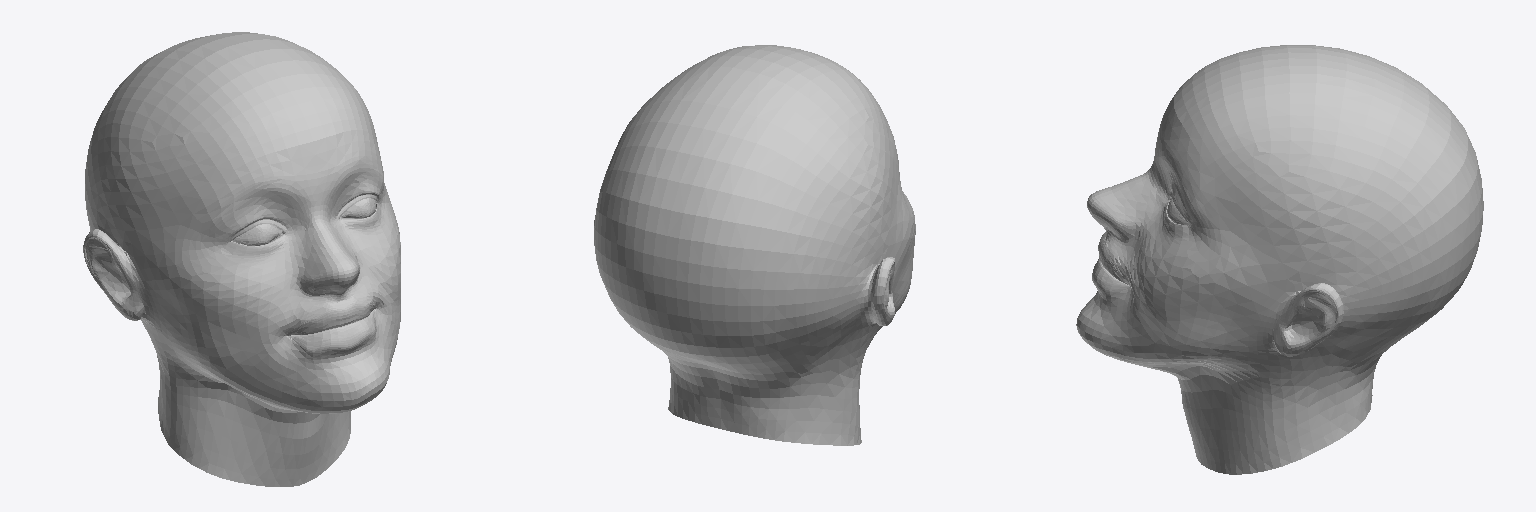
3 views of the same model, side by side, from view 1: azimuth 30°, elevation 25°; view 2: azimuth 150°, elevation 25°; view 3: azimuth 270°, elevation 25° (orthographic).
Visible parts, largest first — view 1: FaceGen; view 2: FaceGen; view 3: FaceGen.
Part boxes in pixels (left/top/right/bottom): FaceGen: left=83, top=32, right=400, bottom=486; FaceGen: left=594, top=45, right=915, bottom=445; FaceGen: left=1076, top=45, right=1483, bottom=474.
Bounding box in the file's own units: 213 × 279 × 258.